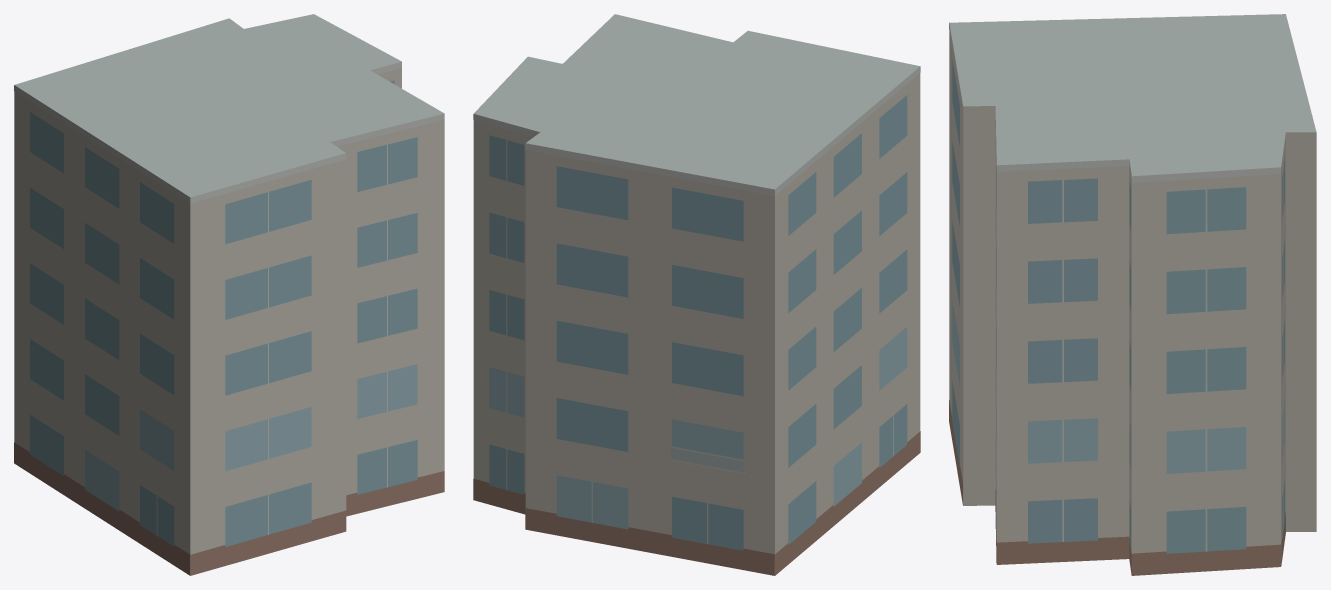
Rendered from survey-upis-32914875.glb.
3 views of the same model, side by side, from view 1: azimuth 30°, elevation 25°; view 2: azimuth 150°, elevation 25°; view 3: azimuth 270°, elevation 25° (orthographic). The views are drawn at different scales.
Visible parts, largest first — view 1: survey-upis-32914875.tmp; view 2: survey-upis-32914875.tmp; view 3: survey-upis-32914875.tmp.
Boxes of the visible parts, <box> form: survey-upis-32914875.tmp: <box>14,14,444,575</box>; survey-upis-32914875.tmp: <box>473,14,920,575</box>; survey-upis-32914875.tmp: <box>949,14,1316,575</box>.
Bounding box in the file's own units: 12.77 × 14.65 × 12.22.
